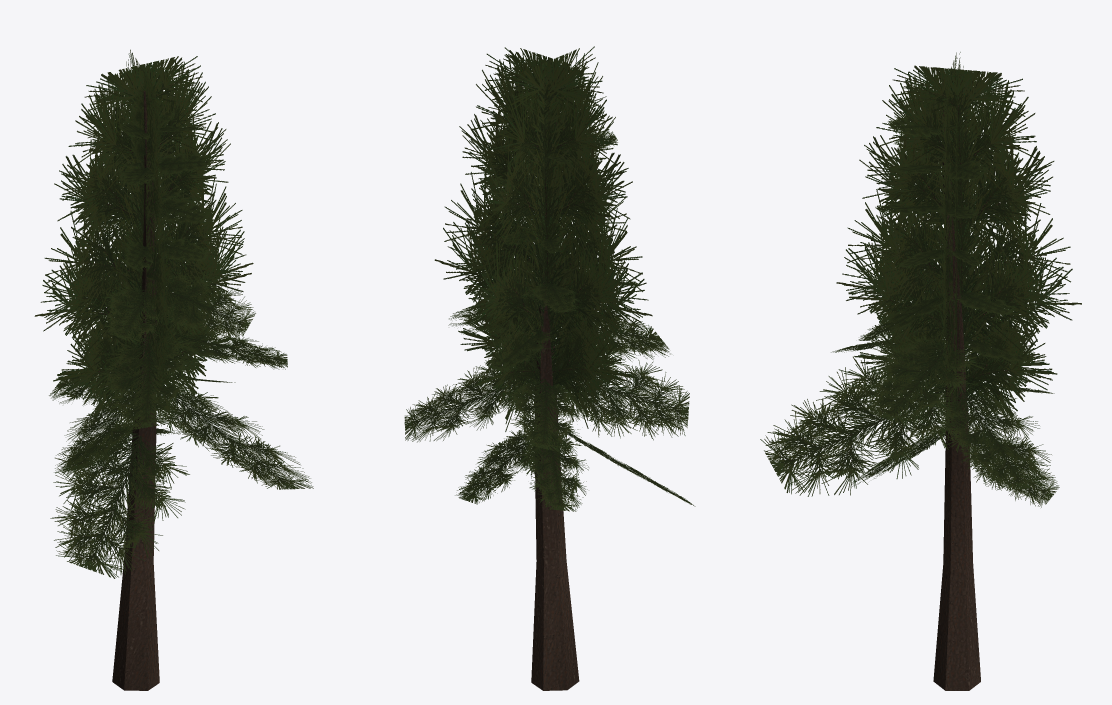
The model's file is pine_b_lod.glb.
3 views of the same model, side by side, from view 1: azimuth 30°, elevation 25°; view 2: azimuth 150°, elevation 25°; view 3: azimuth 270°, elevation 25° (orthographic).
Visible parts, largest first — view 1: pine_b_lod_pine_needles_b, pine_b_lod_bark_pine; view 2: pine_b_lod_pine_needles_b, pine_b_lod_bark_pine; view 3: pine_b_lod_pine_needles_b, pine_b_lod_bark_pine.
Part boxes in pixels (box(x1,y1,x2,y2)): pine_b_lod_pine_needles_b: box(34, 49, 313, 578); pine_b_lod_bark_pine: box(112, 90, 159, 690); pine_b_lod_pine_needles_b: box(404, 46, 695, 511); pine_b_lod_bark_pine: box(531, 97, 579, 690); pine_b_lod_pine_needles_b: box(760, 52, 1081, 507); pine_b_lod_bark_pine: box(933, 111, 980, 690).
Bounding box in the file's own units: 8.8 × 16.99 × 8.95.
Materials: 2 (2 with a texture image).
